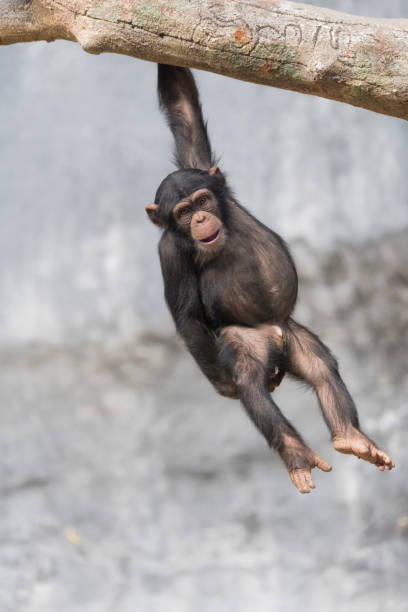chimpanzee: (141, 152, 253, 260)
